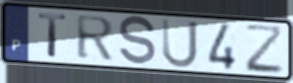4: (206, 22, 238, 72)
R: (75, 14, 117, 62)
S: (117, 14, 158, 68)
T: (36, 12, 70, 59)
U: (160, 17, 200, 70)
Z: (242, 23, 285, 76)
